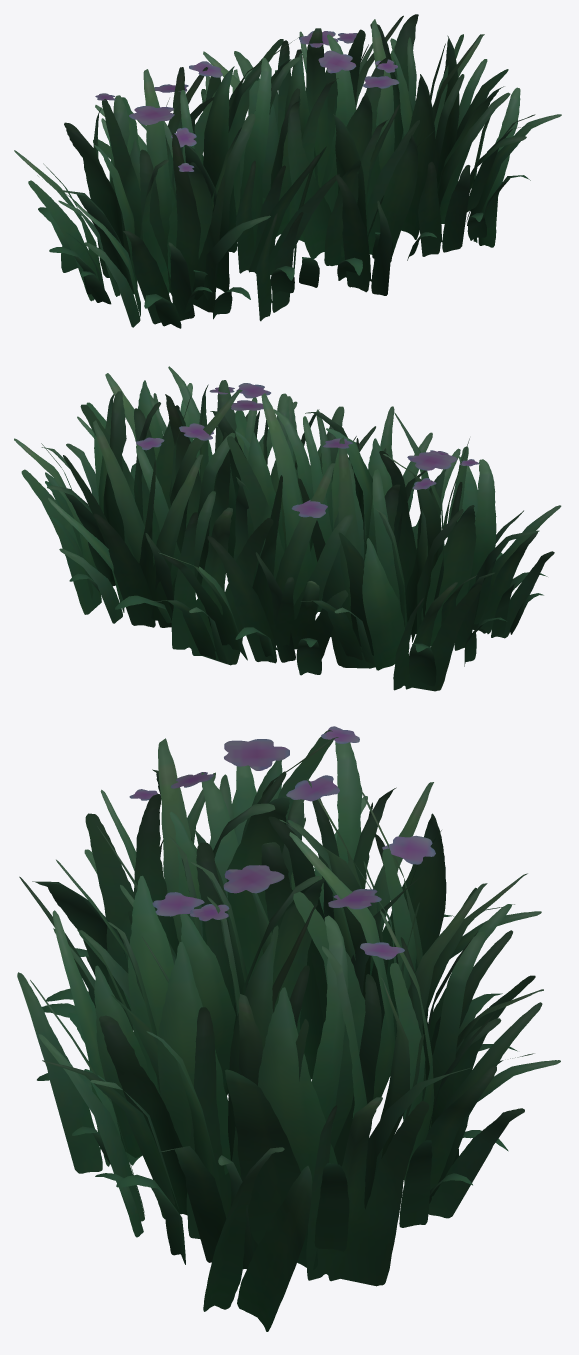
Rendered from pref_sm_garden_techgrass01_lv2.fbx.
3 renders of one model, top to bottom at view 1: azimuth 30°, elevation 25°; view 2: azimuth 150°, elevation 25°; view 3: azimuth 270°, elevation 25°, orthographic. The views are drawn at different scales.
Visible parts, largest first — view 1: pref_sm_garden_techgrass01_lv2; view 2: pref_sm_garden_techgrass01_lv2; view 3: pref_sm_garden_techgrass01_lv2.
Part boxes in pixels (x1=…): pref_sm_garden_techgrass01_lv2: x1=14, y1=14, x2=561, y2=328; pref_sm_garden_techgrass01_lv2: x1=14, y1=366, x2=561, y2=691; pref_sm_garden_techgrass01_lv2: x1=17, y1=726, x2=560, y2=1331.
Size of the model in its own units: 4.73 by 2.34 by 2.98.
1 material, 1 textured.
